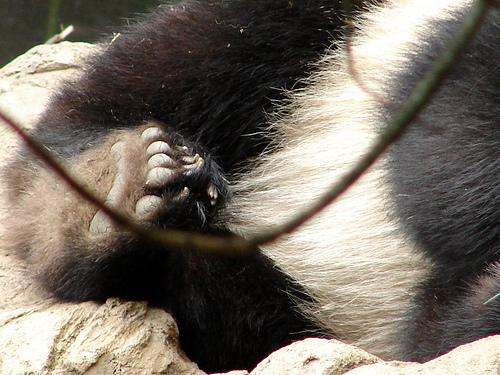panda: (0, 8, 499, 372), (33, 0, 470, 236)
